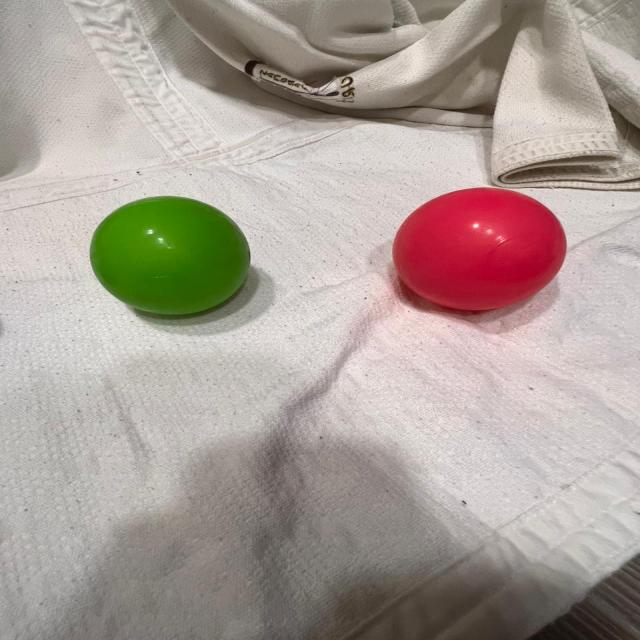ball: (388, 184, 568, 314), (87, 193, 253, 319)
